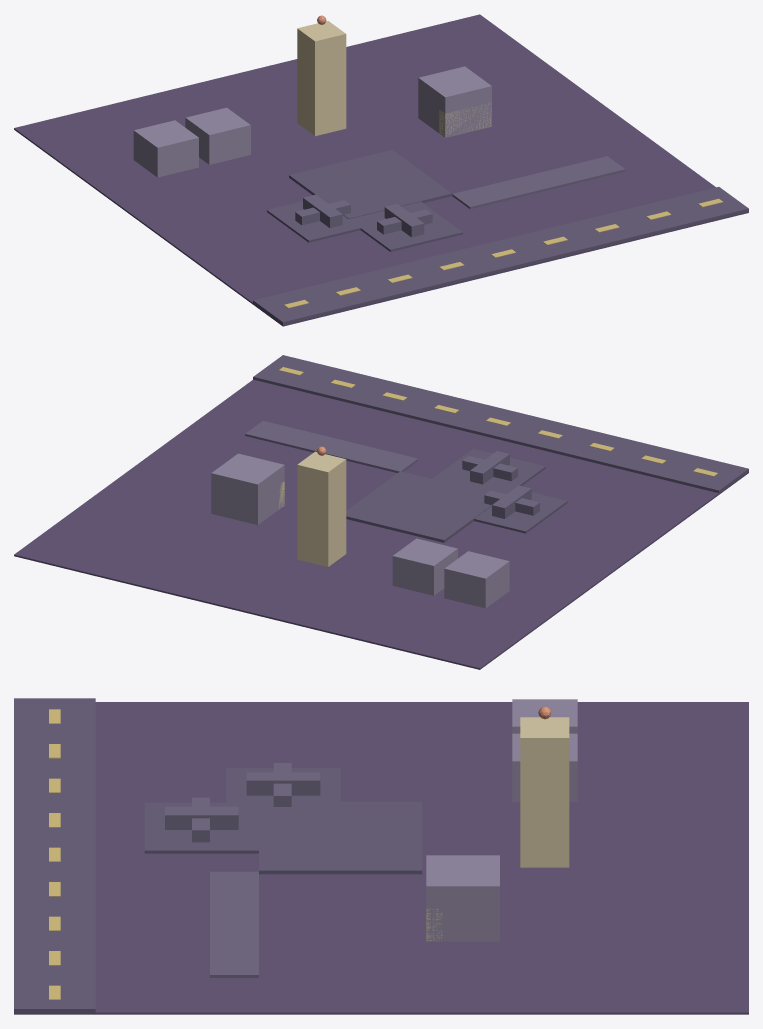
Rendered from stage_08.glb.
3 views of the same model, one above another, from view 1: azimuth 30°, elevation 25°; view 2: azimuth 150°, elevation 25°; view 3: azimuth 270°, elevation 25° (orthographic). The views are drawn at different scales.
Visible parts, largest first — view 1: geometry_0; view 2: geometry_0; view 3: geometry_0.
Part boxes in pixels (x1,y1,x2,y2): geometry_0: [14, 14, 748, 326]; geometry_0: [14, 355, 748, 669]; geometry_0: [14, 698, 748, 1014].
Size of the model in its own units: 9 by 2.06 by 9.
